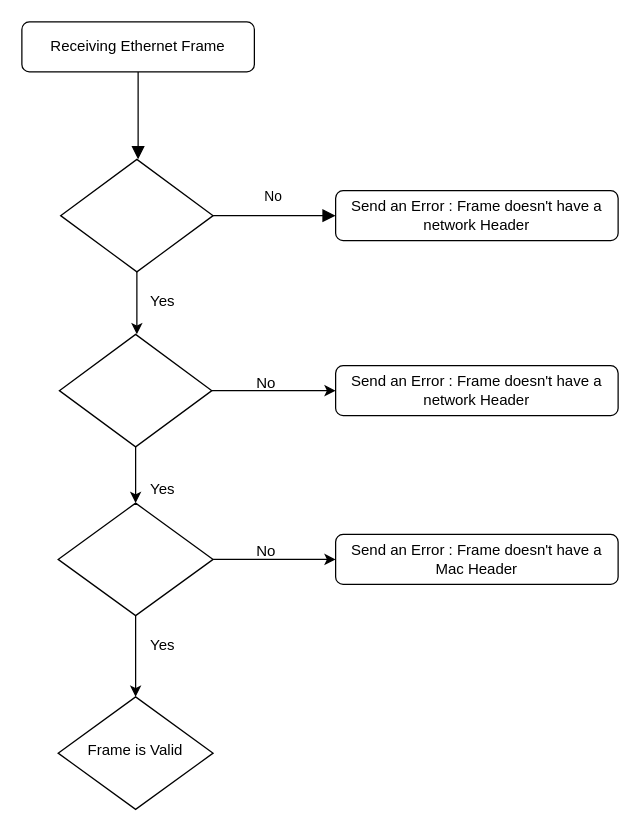
This 640x831 diagram has some shape labels left out. Here are the shapes that lost their labels. From the top down, the centre of each, then its label:
At point 136,215: "Has an Network Header".
At point 135,390: "Has an Transport Header".
At point 135,559: "Has a MAC Header".
